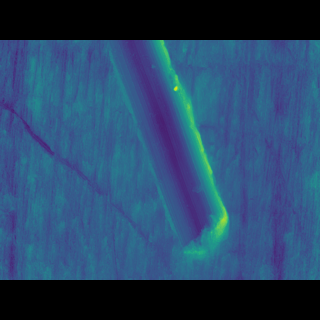Loch: (104, 69, 230, 237)
